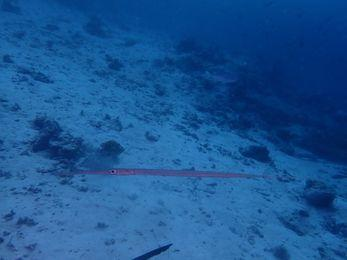Fistularia commersonii: (57, 157, 288, 195)
